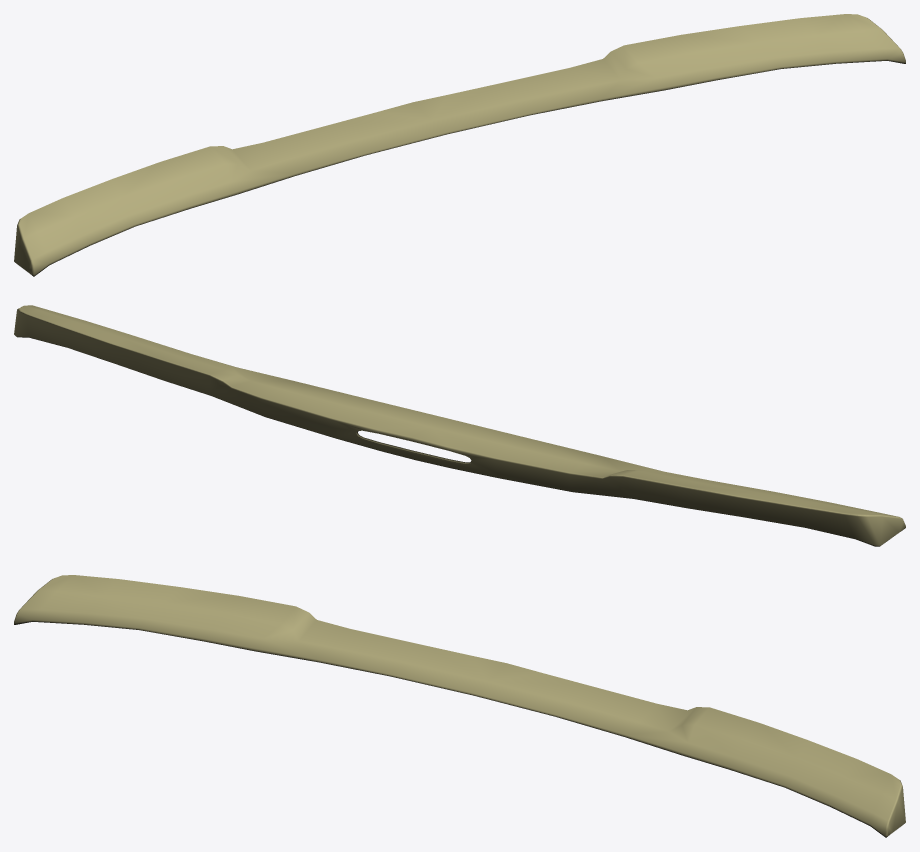
Rendered from Zr1_Spoiler_01_Duco.fbx.
The picture shows the model from 3 angles, top to bottom: view 1: azimuth 30°, elevation 25°; view 2: azimuth 150°, elevation 25°; view 3: azimuth 330°, elevation 25°; orthographic projection.
Parts seen in each view (by area): view 1: Zr1_Spoiler_01_Duco; view 2: Zr1_Spoiler_01_Duco; view 3: Zr1_Spoiler_01_Duco.
Boxes of the visible parts, x1,y1,x2,y2 form: Zr1_Spoiler_01_Duco: [14, 14, 905, 276]; Zr1_Spoiler_01_Duco: [14, 305, 905, 546]; Zr1_Spoiler_01_Duco: [14, 575, 905, 837].
Bounding box in the file's own units: 148 × 6.43 × 17.14.
